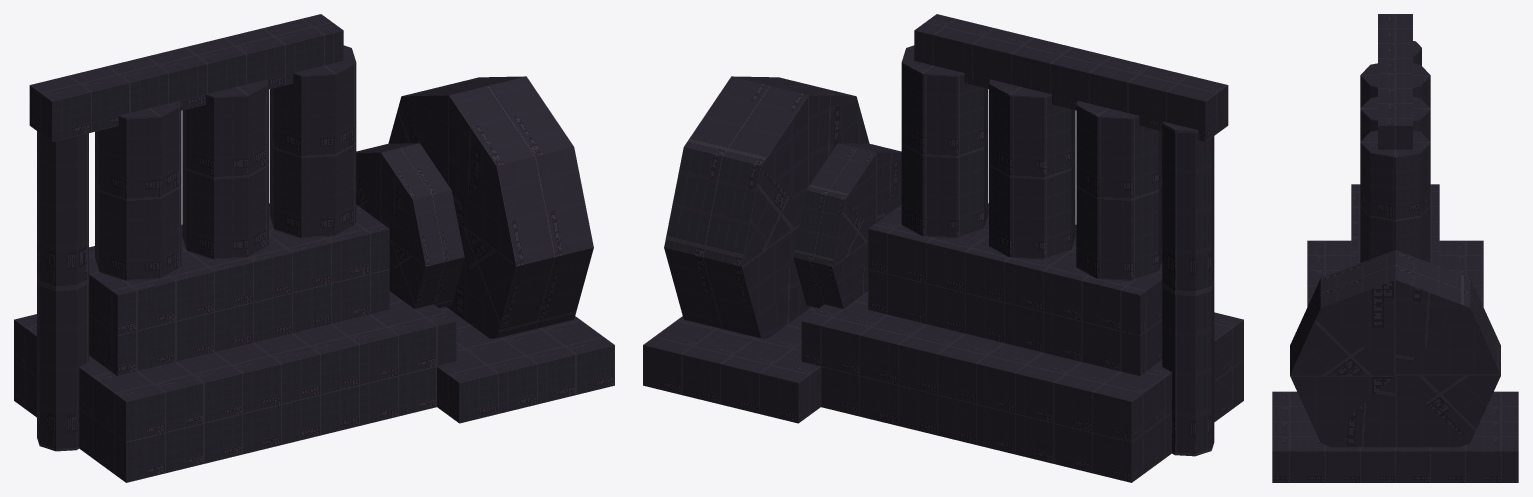
The model's file is Machine.obj.
The picture shows the model from 3 angles, left to right: view 1: azimuth 30°, elevation 25°; view 2: azimuth 150°, elevation 25°; view 3: azimuth 270°, elevation 25°; orthographic projection. The views are drawn at different scales.
Parts seen in each view (by area): view 1: Machine; view 2: Machine; view 3: Machine.
Part boxes in pixels (x1,y1,x2,y2): Machine: [14, 14, 614, 482]; Machine: [643, 14, 1243, 482]; Machine: [1272, 14, 1518, 482].
Bounding box in the file's own units: 12.75 × 8.75 × 7.
